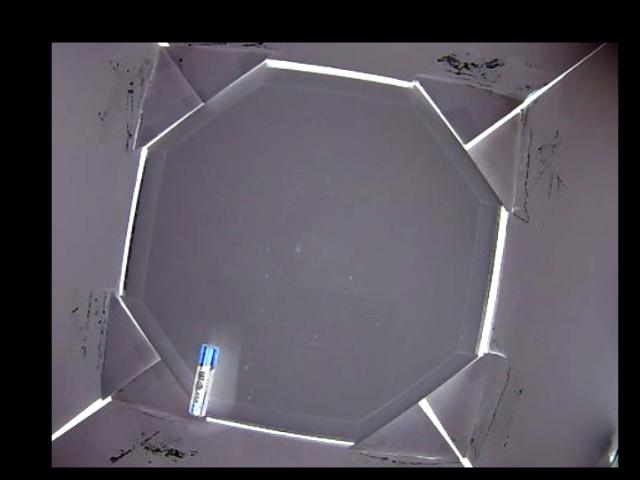Battery: (188, 343, 218, 417)
